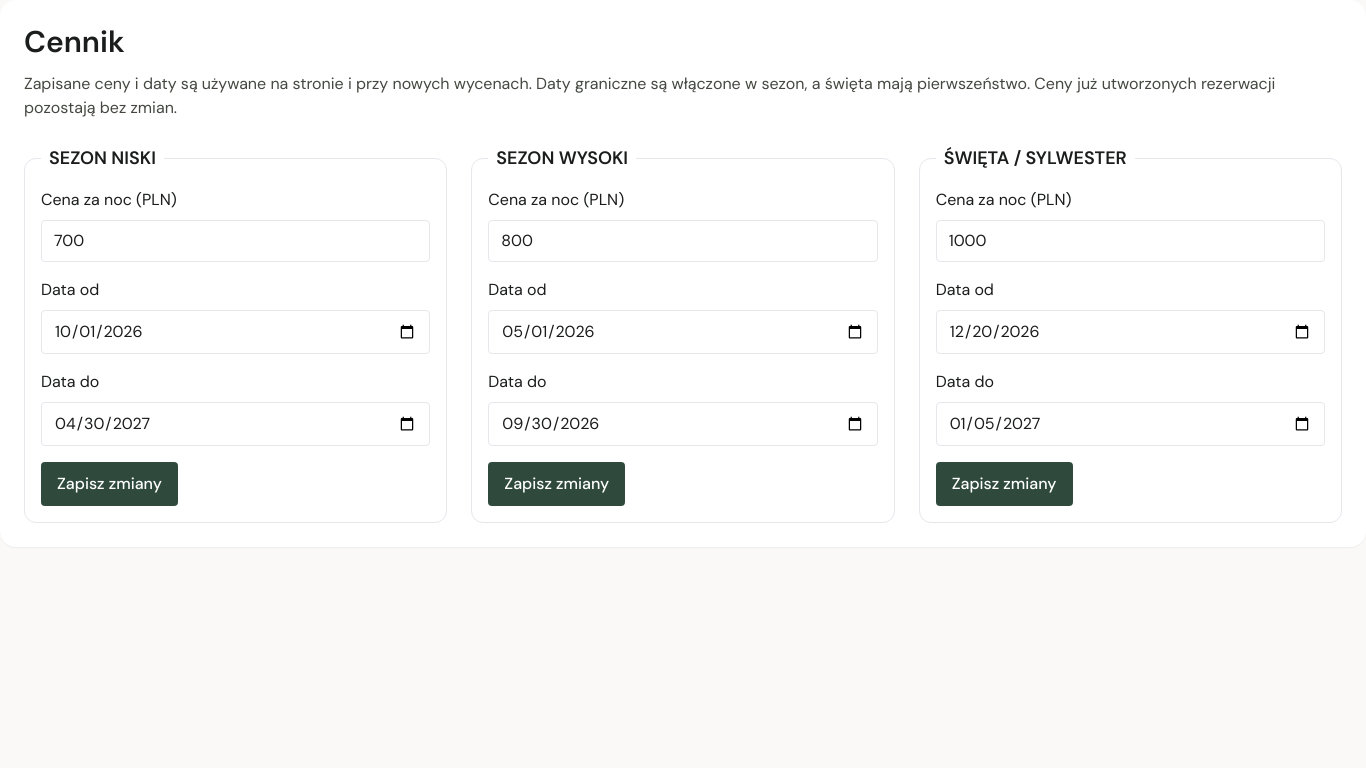
Scenario: admin seasonal pricing editor › rejects reversed season dates
Type "2026-09-01" into the date field labelled "Data do" below "SEZON NISKI" at point(236, 424), box [41,402,430,446]
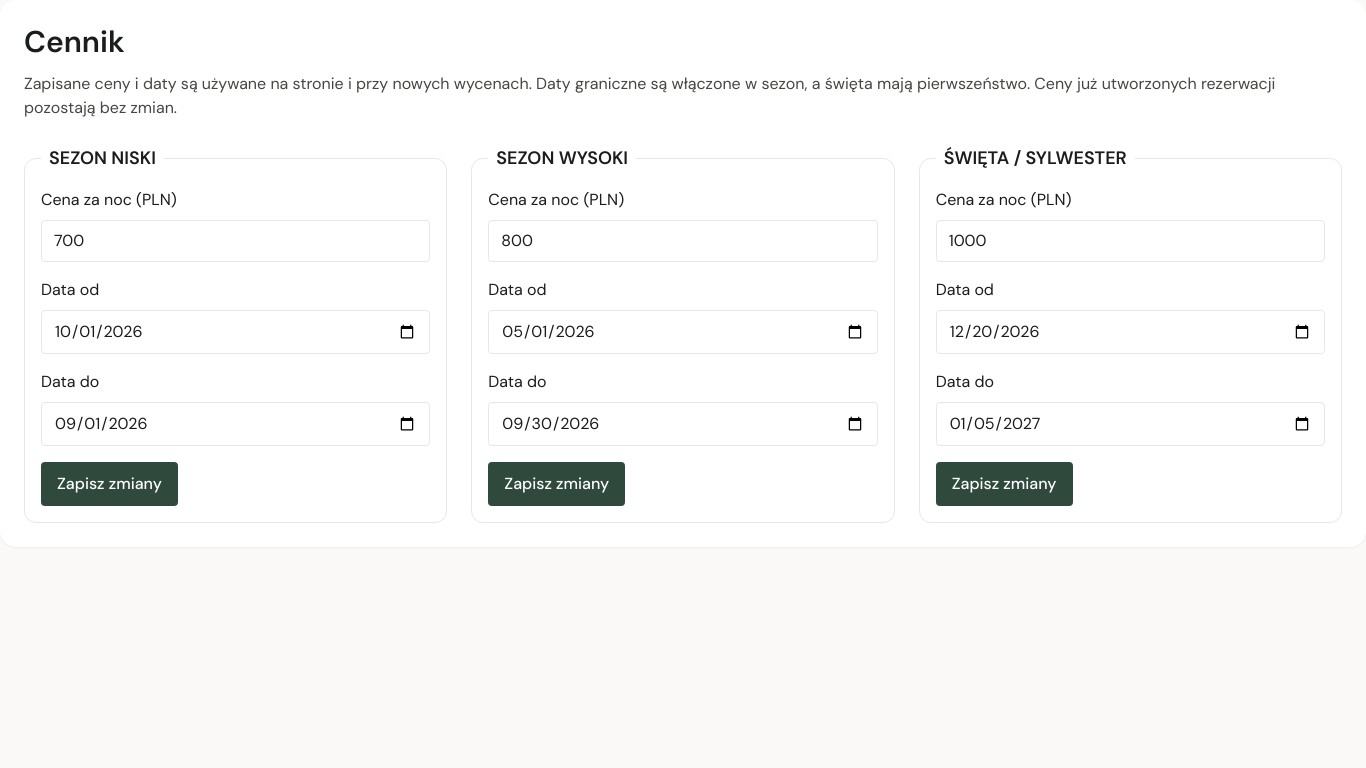
Click the button "Zapisz zmiany" below "SEZON NISKI" at point(109, 484), box [41,462,178,506]
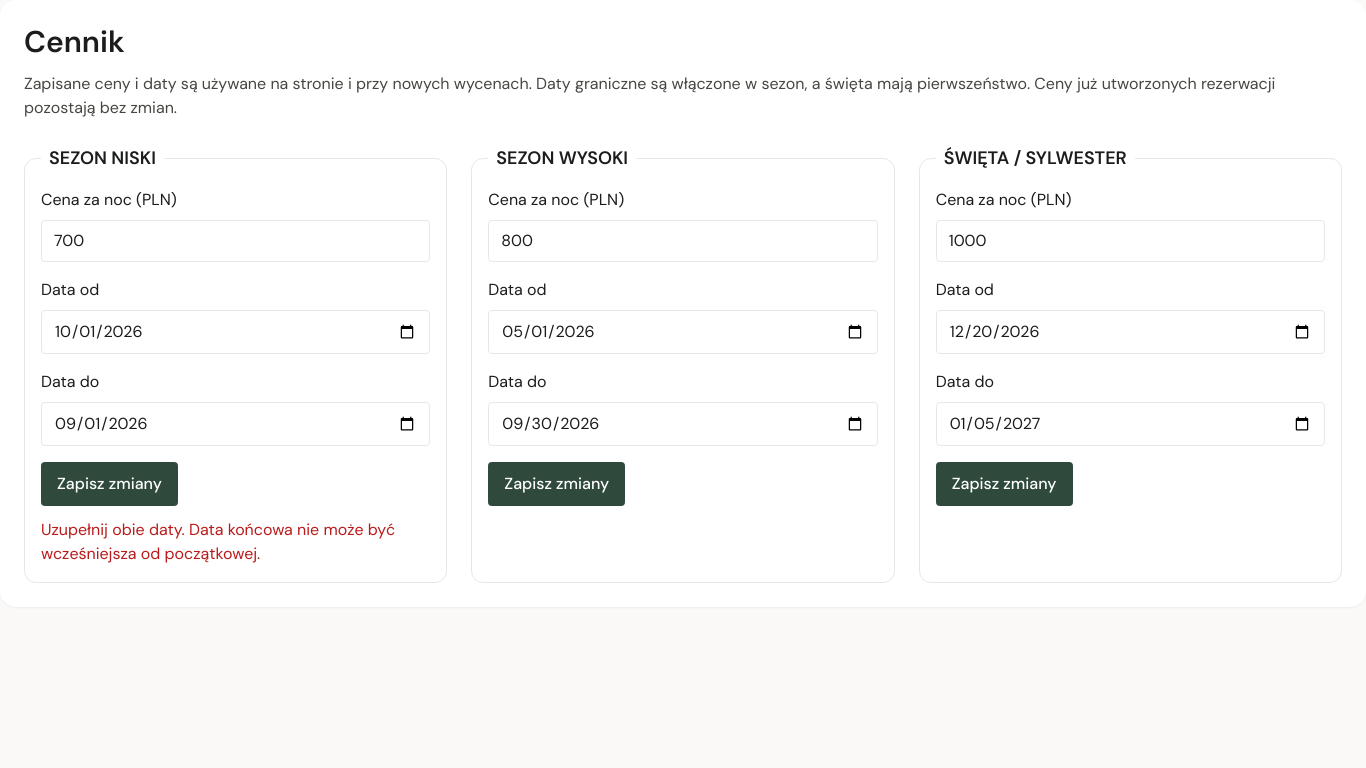
Check: the message shows "Data końcowa nie może być wcześniejsza", box [41,519,395,564]
